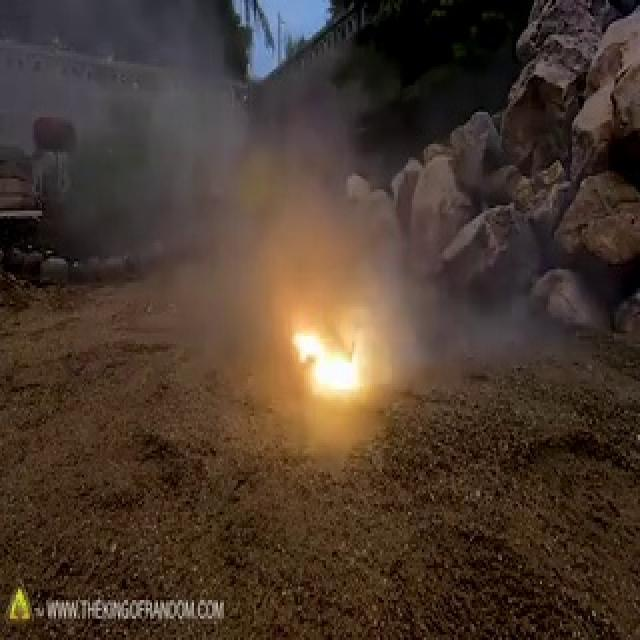Fire: (288, 322, 370, 406)
Smoke: (44, 0, 422, 317)
